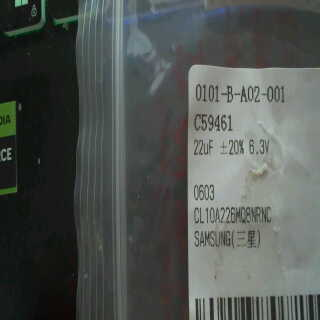22uF: (191, 138, 215, 160)
